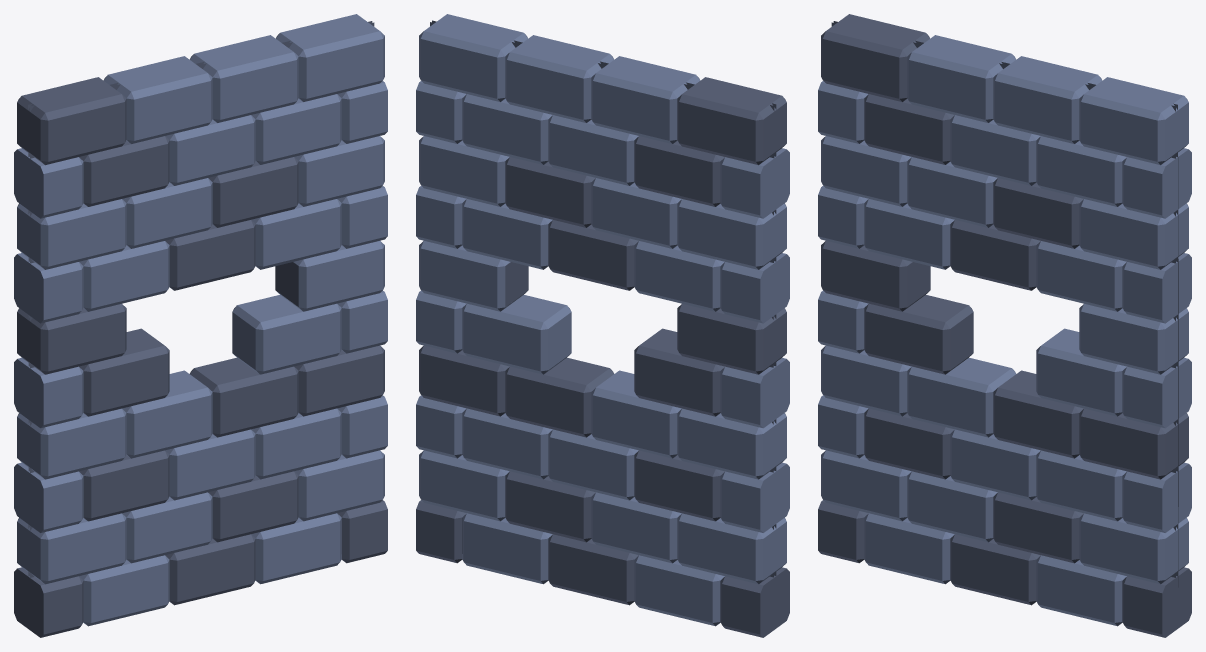
Rendered from brick-wall-005.glb.
3 renders of one model, left to right at view 1: azimuth 30°, elevation 25°; view 2: azimuth 150°, elevation 25°; view 3: azimuth 330°, elevation 25°, orthographic.
Parts seen in each view (by area): view 1: brick wall.005; view 2: brick wall.005; view 3: brick wall.005.
Boxes of the visible parts, x1=… form: brick wall.005: x1=14, y1=14, x2=387, y2=637; brick wall.005: x1=416, y1=14, x2=789, y2=637; brick wall.005: x1=818, y1=14, x2=1191, y2=637.
Bounding box in the file's own units: 2 × 2.9 × 0.2961.
